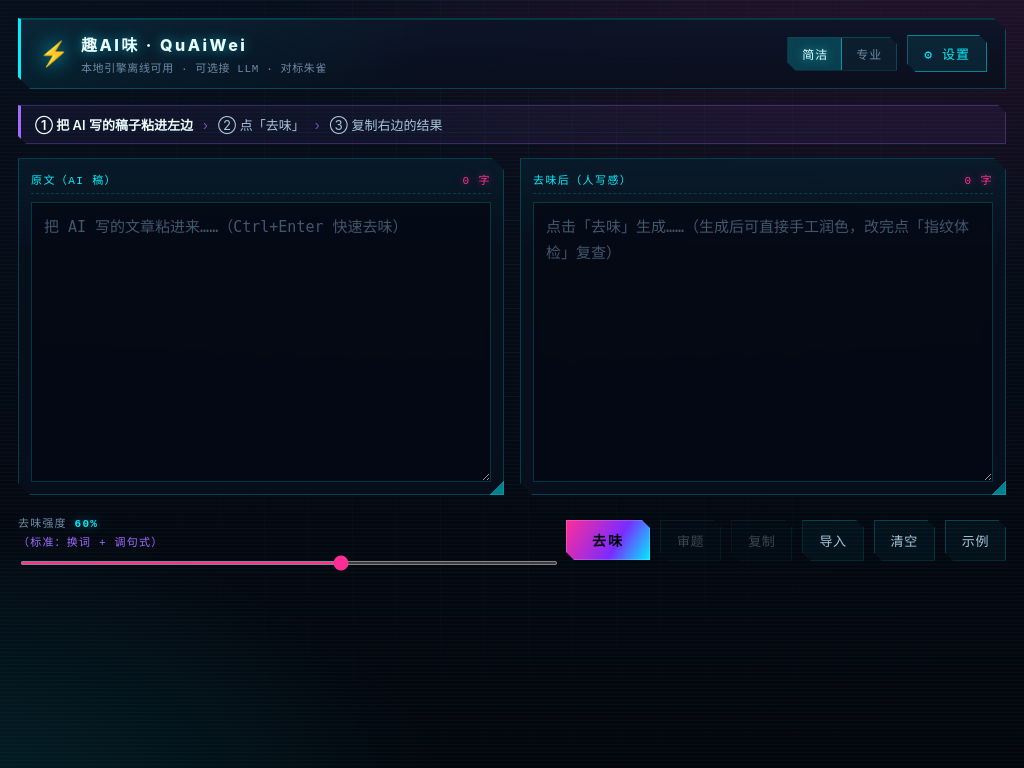
Test: 简洁模式：去味闭环与结果条 › 产出后三步引导撤掉（腾地方给结果）
The width and height of the screenshot is (1024, 768).
Type "值得注意的是，随着人工智能技术的快速发展，AI 写作工具应运而生。综上所述，数字化办公不仅极大地提升了工作效率，而且有效地降低了运营成本。然而，技术的变革也带来了一系列值得关注的挑战。" into the text box with placeholder "把 AI 写的文章粘进来……（Ctrl+Enter 快速去味）" at (261, 342), box [31,202,491,482]
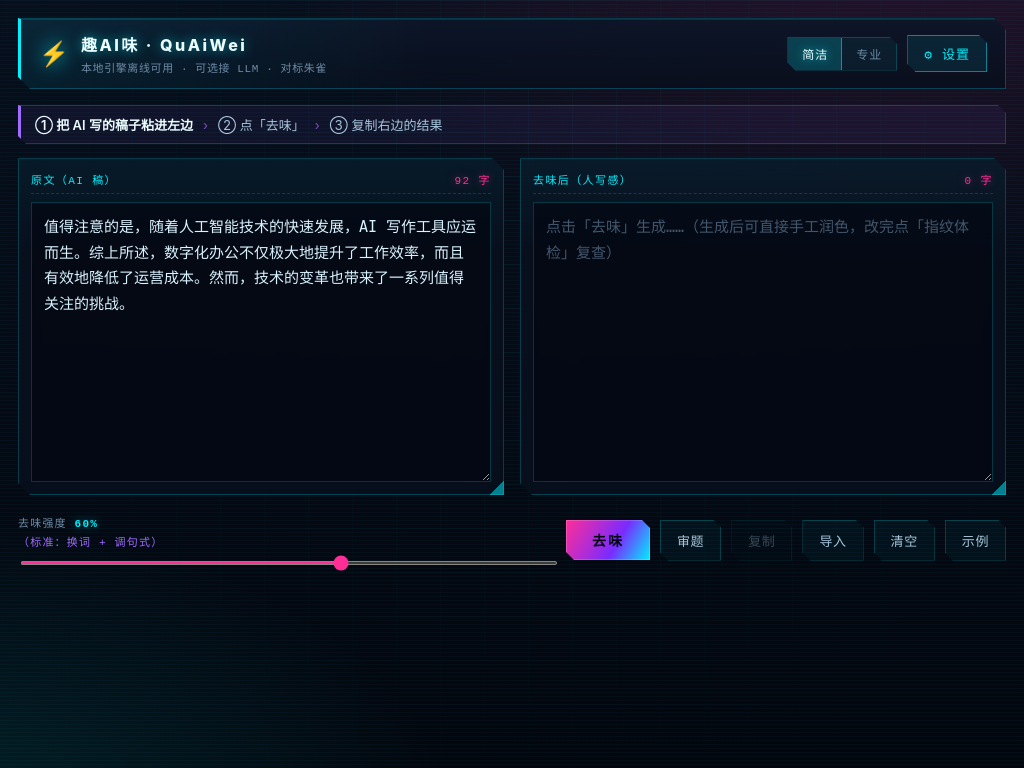
Click the button "去味" at (608, 540), box [566,520,650,560]
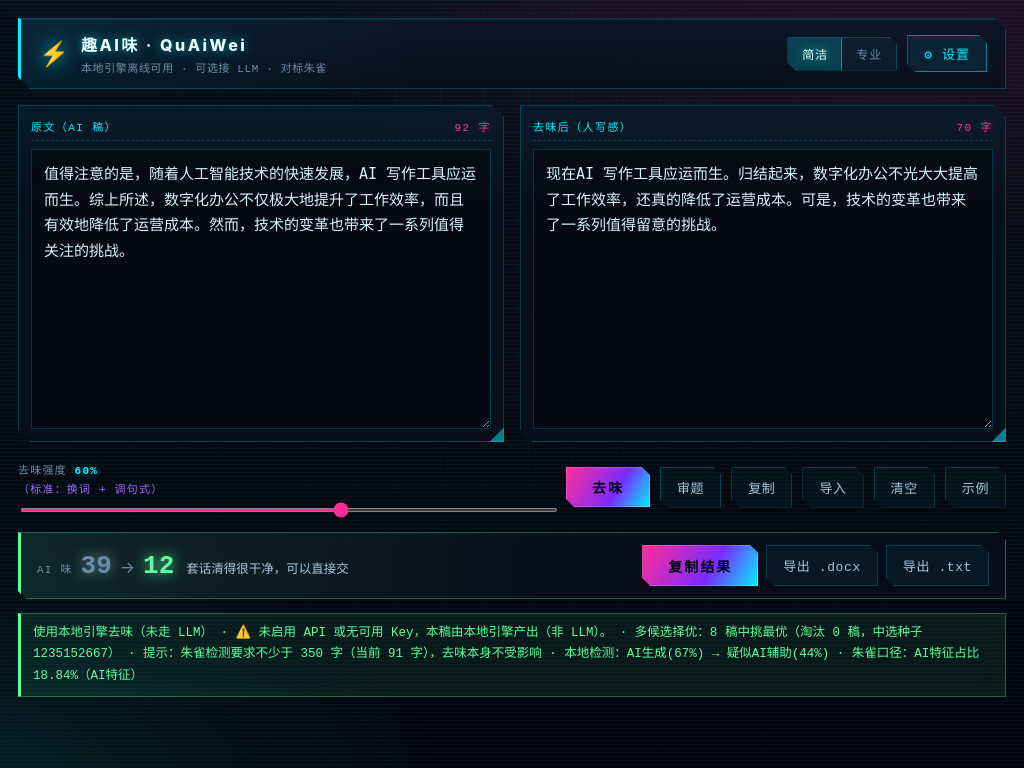
Expected: the text "① 把 AI 写的稿子粘进左边" is gone
